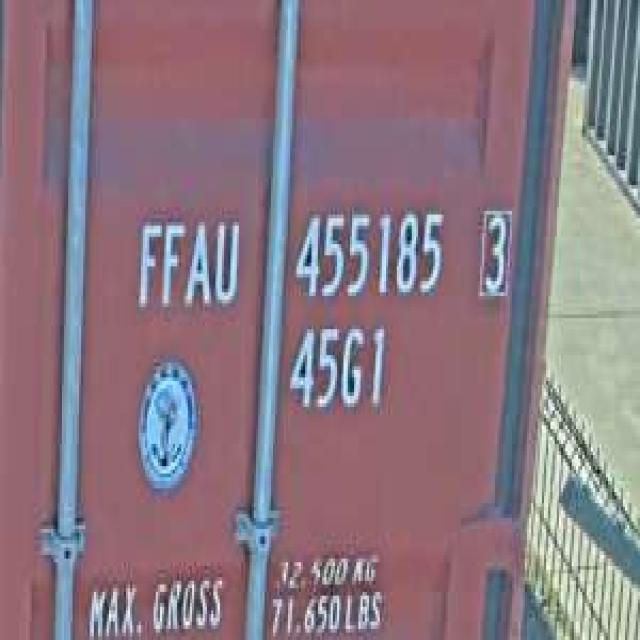dv: (474, 200, 514, 307)
owner: (130, 203, 243, 322)
serial: (288, 196, 450, 307)
size: (284, 314, 388, 422)
